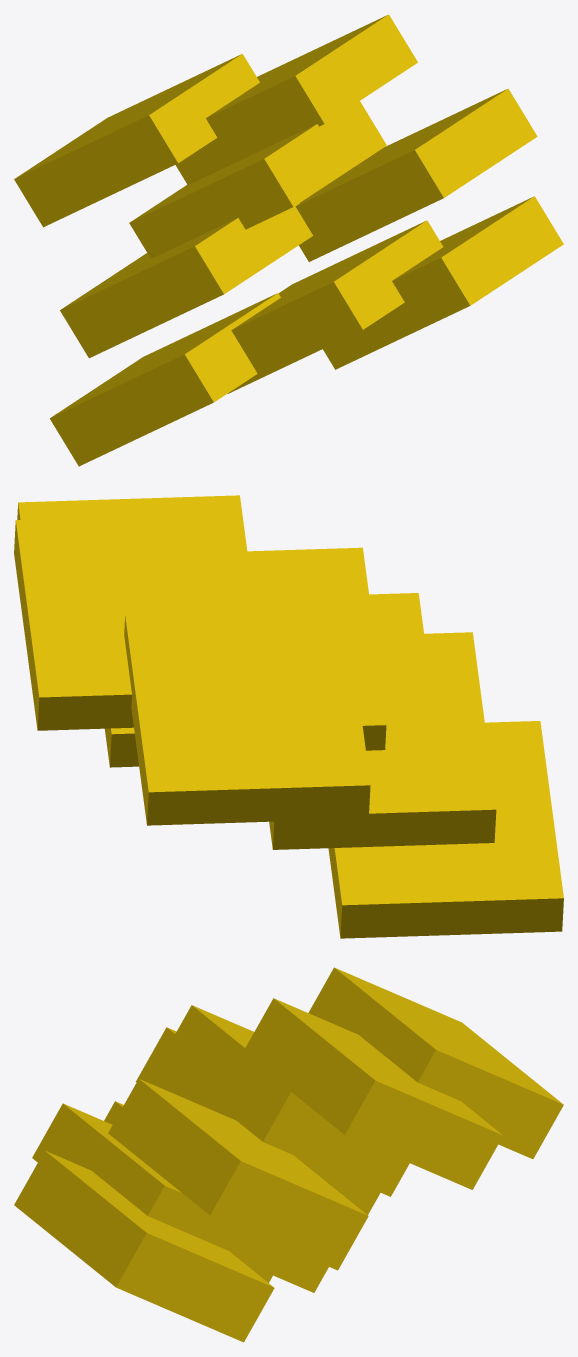
Rendered from YELLOW.glb.
The picture shows the model from 3 angles, top to bottom: view 1: azimuth 30°, elevation 25°; view 2: azimuth 150°, elevation 25°; view 3: azimuth 270°, elevation 25°; orthographic projection. The views are drawn at different scales.
Parts seen in each view (by area): view 1: Instance Child on Parent; view 2: Instance Child on Parent; view 3: Instance Child on Parent.
Boxes of the visible parts, bbox=[...] form: Instance Child on Parent: bbox=[14, 14, 563, 466]; Instance Child on Parent: bbox=[14, 495, 563, 938]; Instance Child on Parent: bbox=[14, 967, 563, 1342].
Size of the model in its own units: 16.08 by 10.3 by 14.6.
